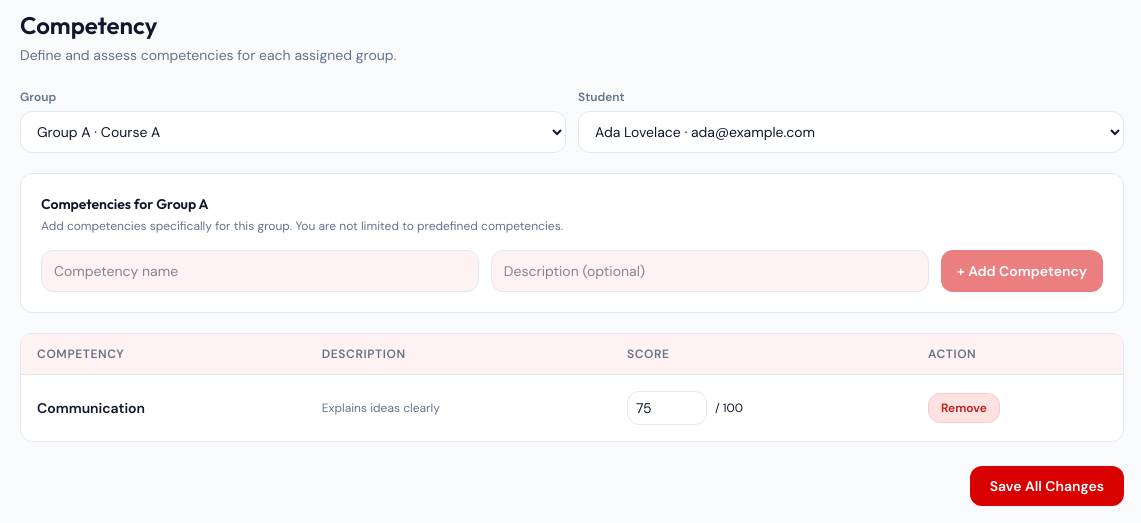
TeacherCompetency › switches groups and reloads competencies for the new group
Step 1. Select "Group B · Course B" in the 1st dropdown showing "Group A · Course A" → coordinates (293, 132), box [20,111,566,153]
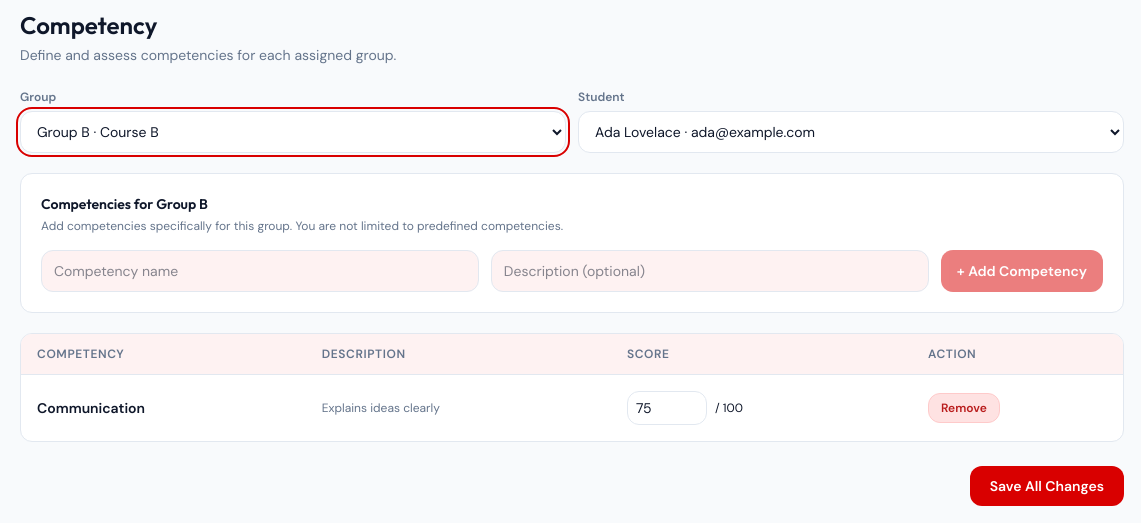
Expected: the heading "Competencies for Group B" is shown, [41,195,208,213]
